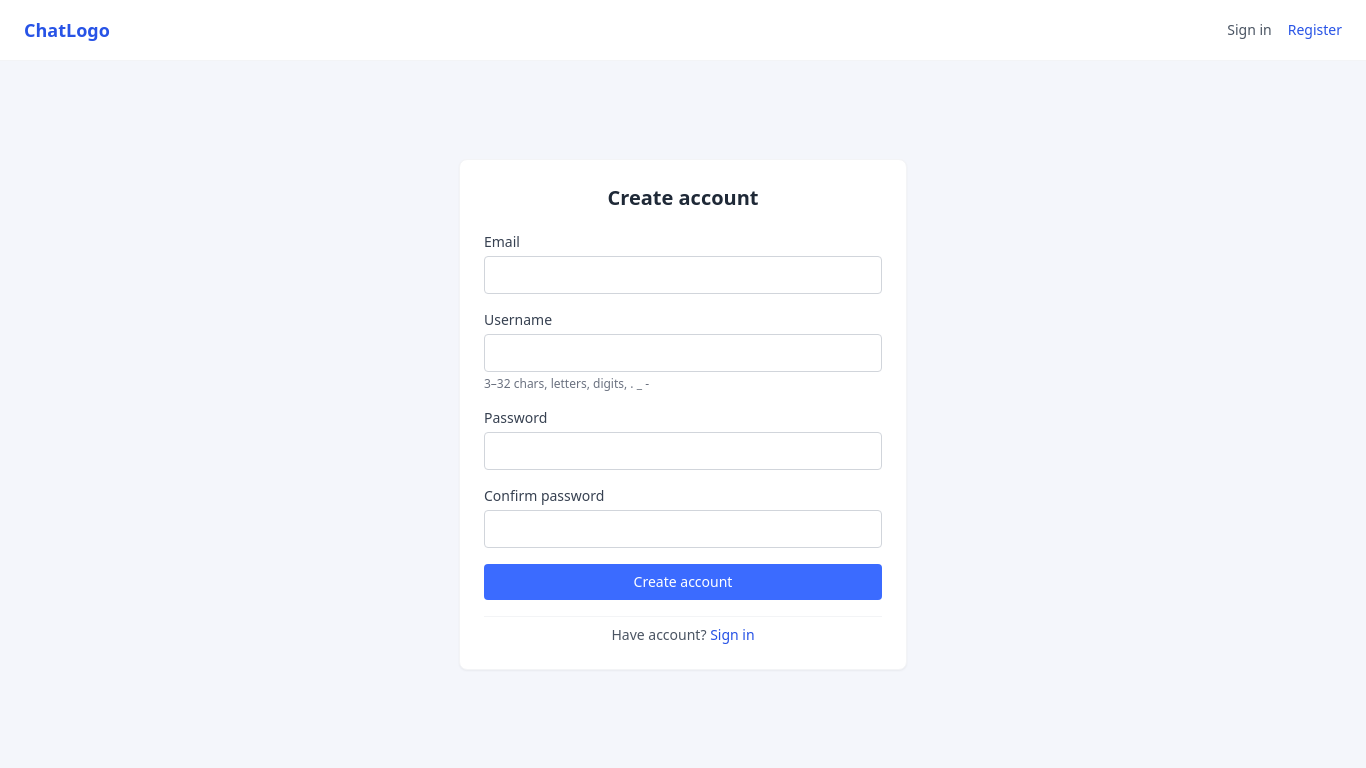
RegisterPage › does NOT hit the API when passwords do not match
Type "a@x.io" into the field below "Email" at (683, 275), box 484,256 -> 882,294
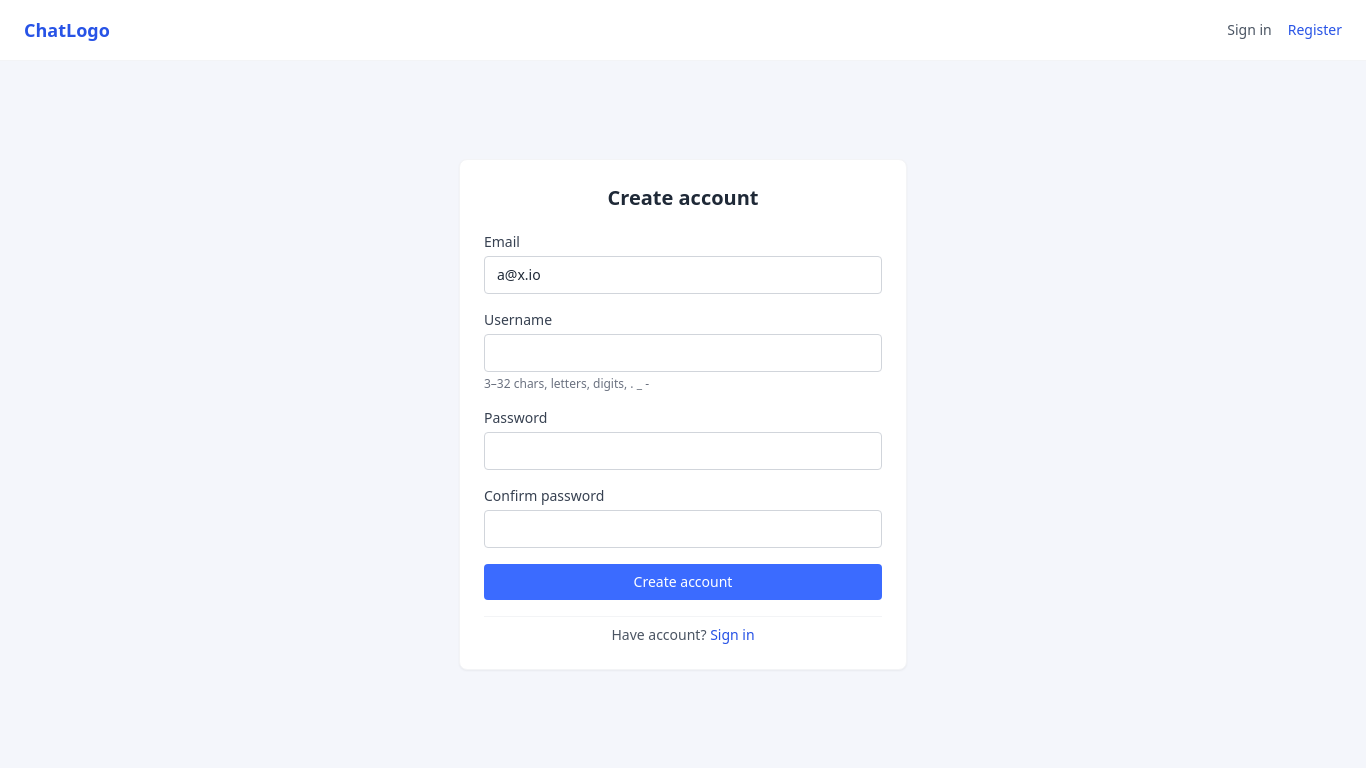
Type "alice" into the field below "Username" at (683, 353), box 484,334 -> 882,372
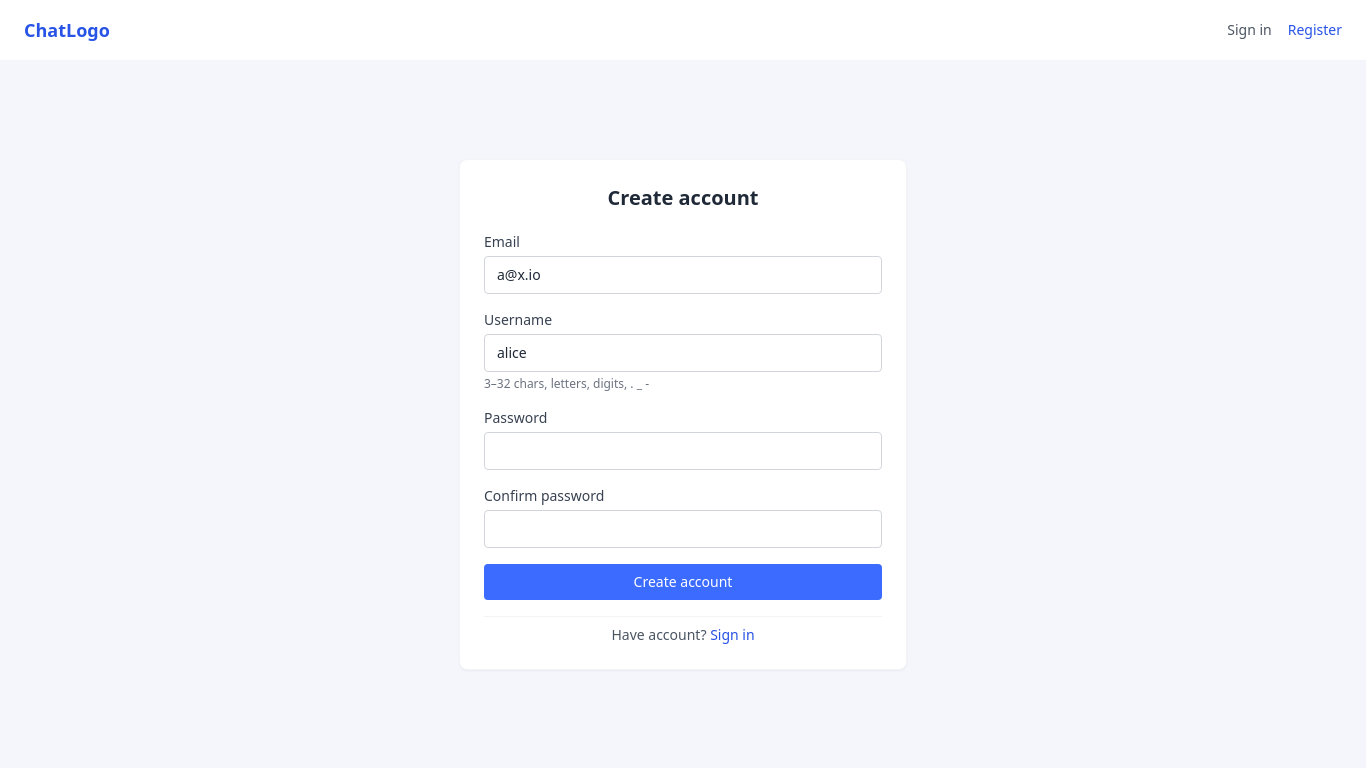
Type "pw12345678" into the 1st password field at (683, 451), box 484,432 -> 882,470
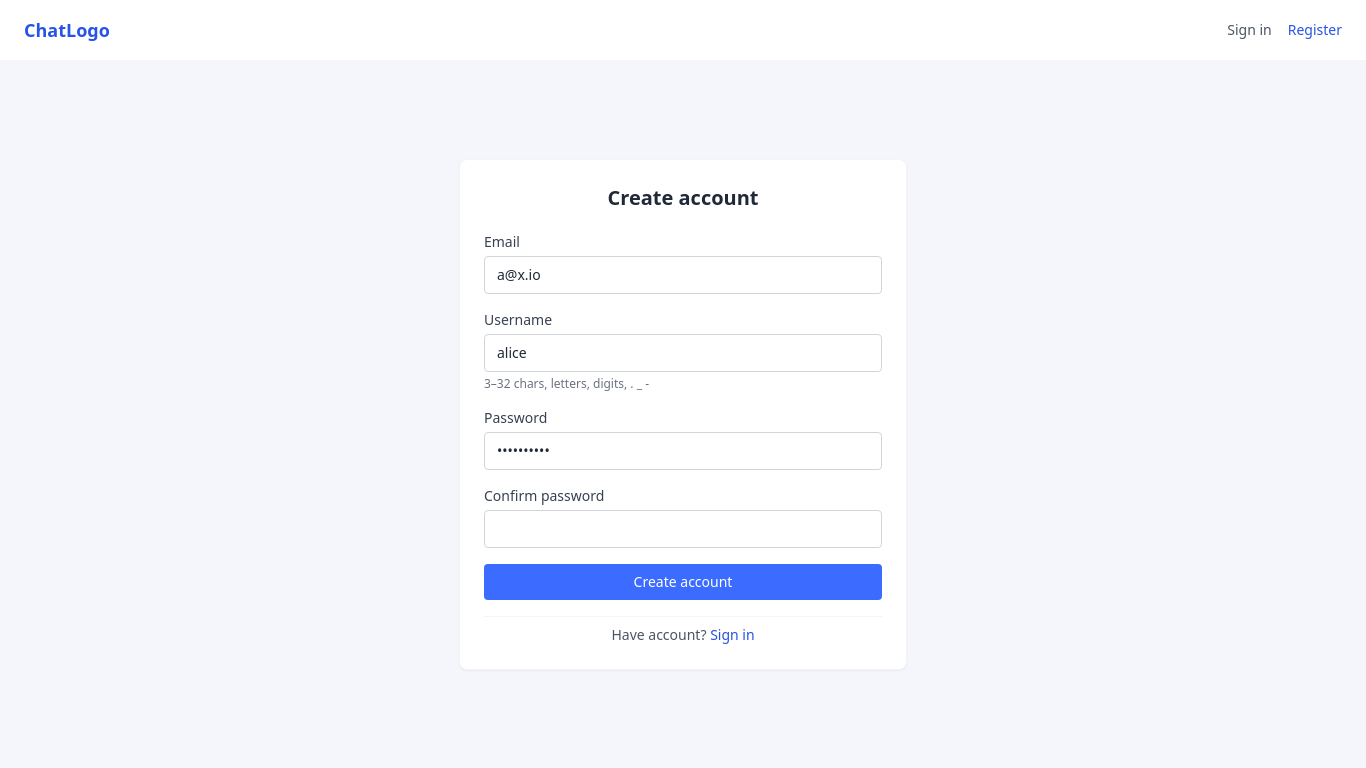
Type "different!" into the password field below "Confirm password" at (683, 529), box 484,510 -> 882,548
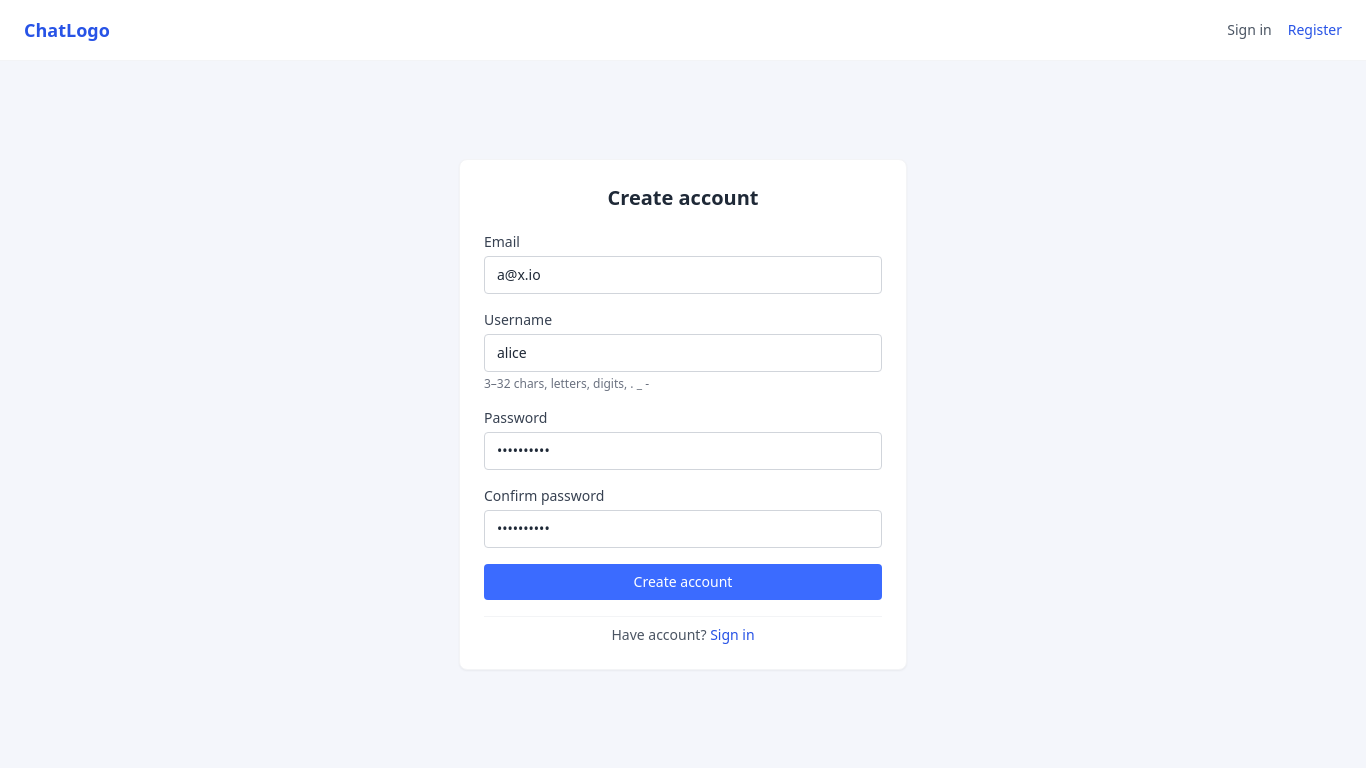
Click the button "Create account" at (683, 582), box 484,564 -> 882,600
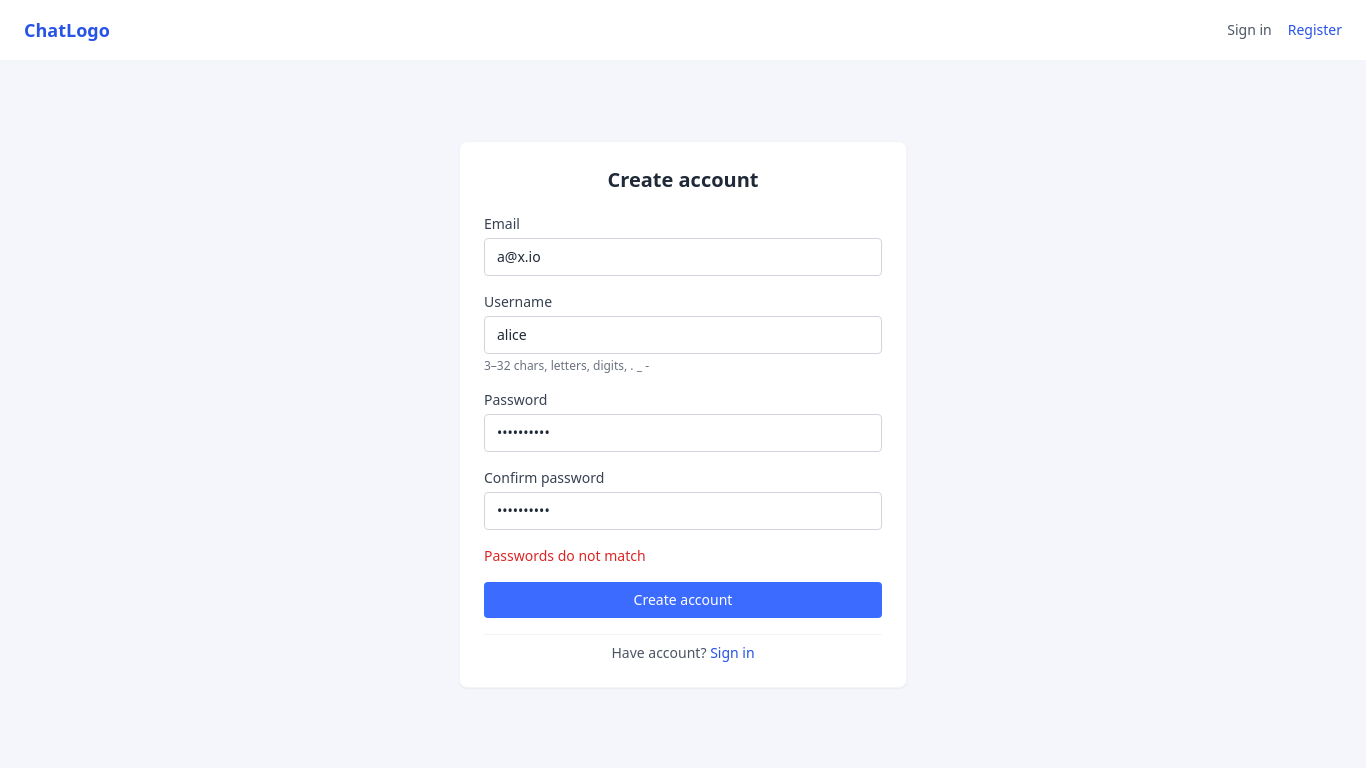
Result: the text "Passwords do not match" is shown at 484,546 -> 646,565
